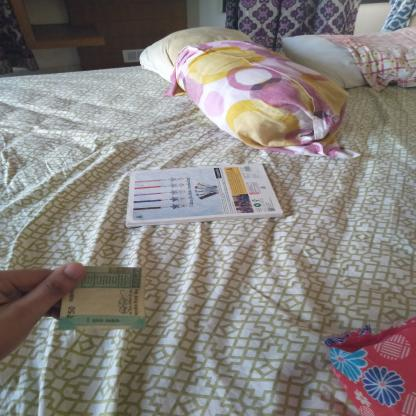New50Back: (56, 266, 148, 327)
